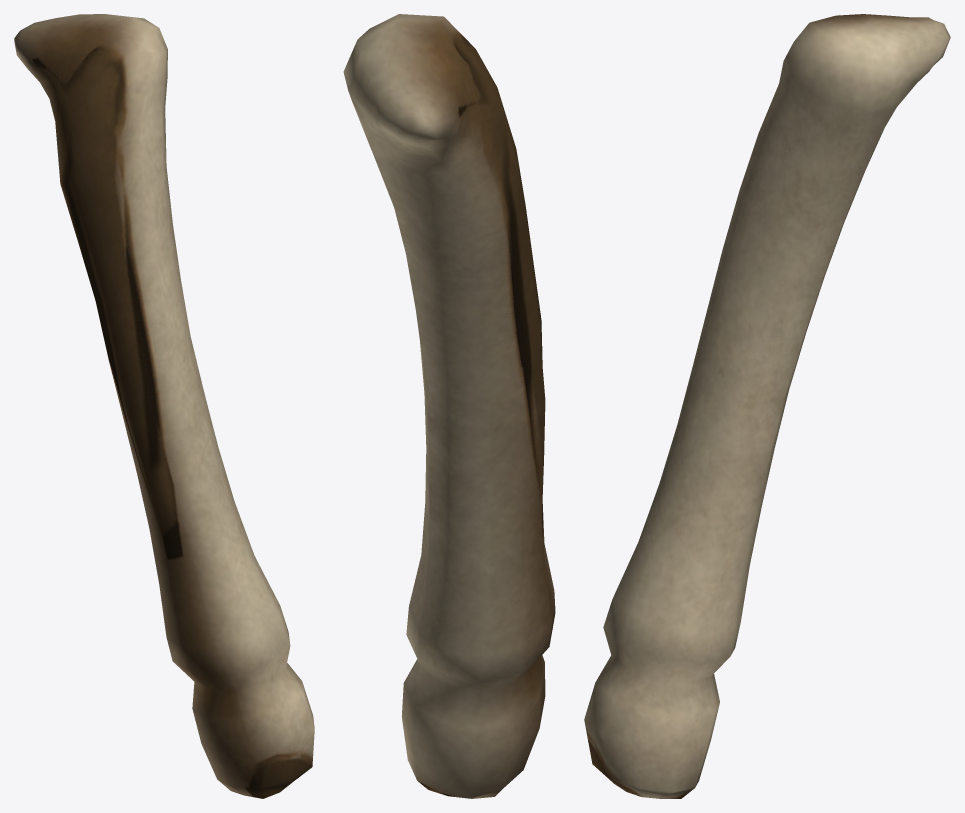
File: Metatarsal_V.glb
The picture shows the model from 3 angles, left to right: view 1: azimuth 30°, elevation 25°; view 2: azimuth 150°, elevation 25°; view 3: azimuth 270°, elevation 25°; orthographic projection. The views are drawn at different scales.
Parts seen in each view (by area): view 1: Metatarsal_V_Left1:Group28665; view 2: Metatarsal_V_Left1:Group28665; view 3: Metatarsal_V_Left1:Group28665.
Boxes of the visible parts, <box> form: Metatarsal_V_Left1:Group28665: <box>14,14,314,798</box>; Metatarsal_V_Left1:Group28665: <box>343,14,555,798</box>; Metatarsal_V_Left1:Group28665: <box>584,14,950,798</box>.
Bounding box in the file's own units: 12.4 × 51.77 × 23.
Materials: 1 (1 with a texture image).
